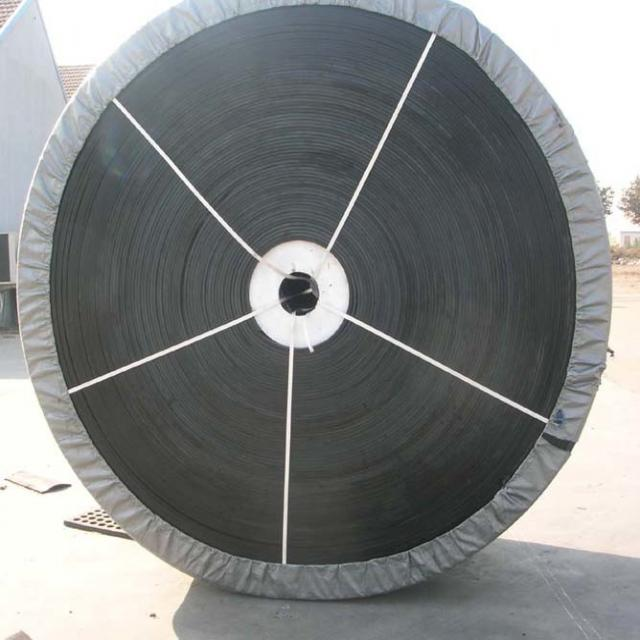convoyeur: (13, 7, 615, 611)
